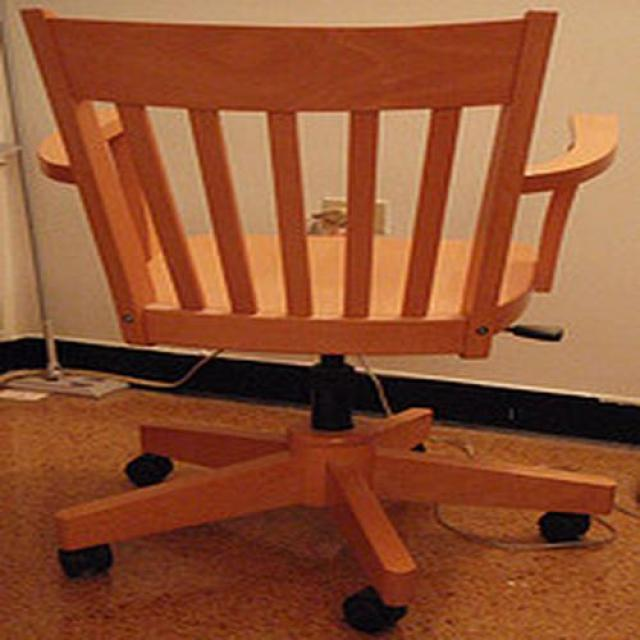swivelchair: (20, 9, 618, 371), (54, 375, 618, 611)
